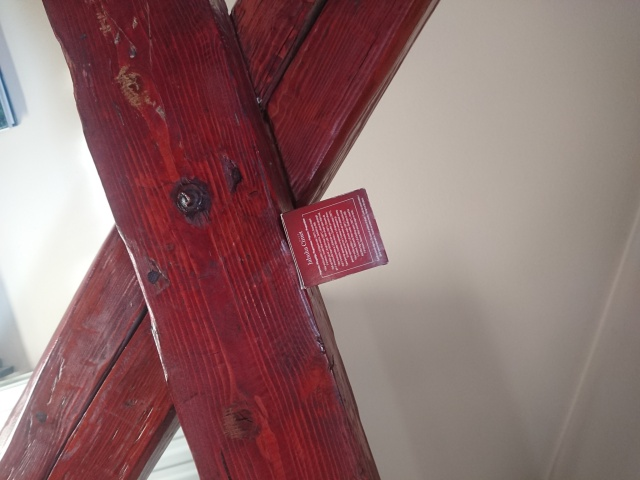Franck Apple Cinnamon Tea 60g: (277, 186, 390, 290)
